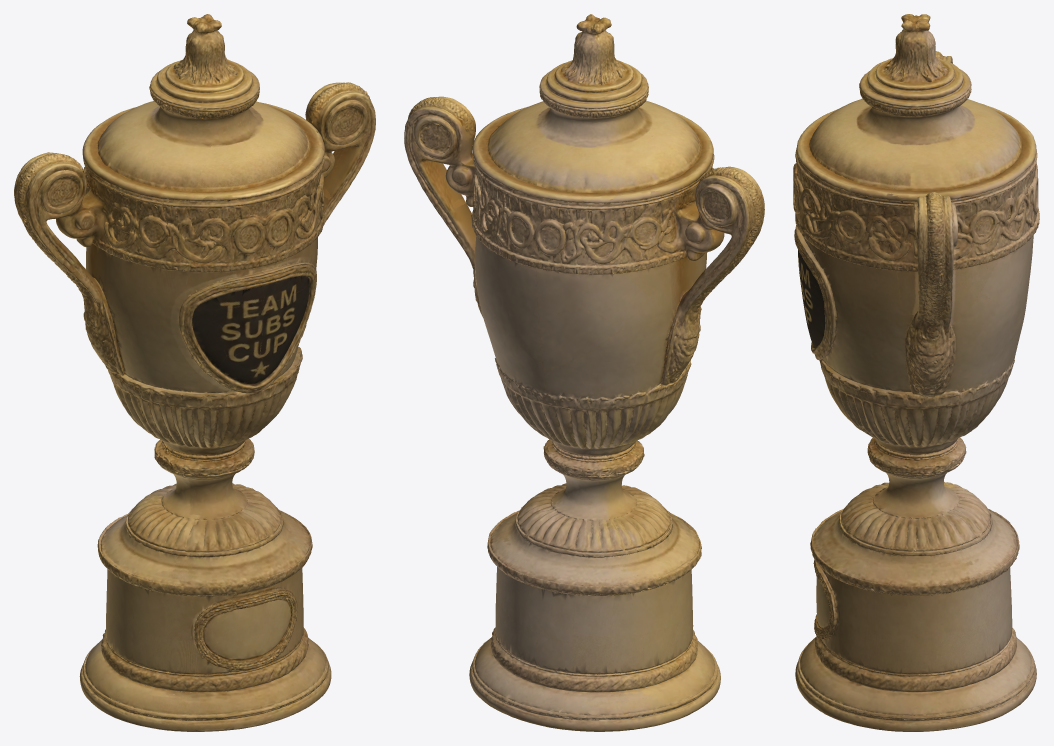
Rendered from copa_1.glb.
The picture shows the model from 3 angles, left to right: view 1: azimuth 30°, elevation 25°; view 2: azimuth 150°, elevation 25°; view 3: azimuth 270°, elevation 25°; orthographic projection.
Visible parts, largest first — view 1: tmp7fo53ryxobj; view 2: tmp7fo53ryxobj; view 3: tmp7fo53ryxobj.
Part boxes in pixels (box(x1,y1,x2,y2)): tmp7fo53ryxobj: box(14, 14, 375, 731); tmp7fo53ryxobj: box(404, 14, 764, 731); tmp7fo53ryxobj: box(793, 14, 1039, 731).
Size of the model in its own units: 0.5584 by 1 by 0.3374.
Materials: 1 (1 with a texture image).
